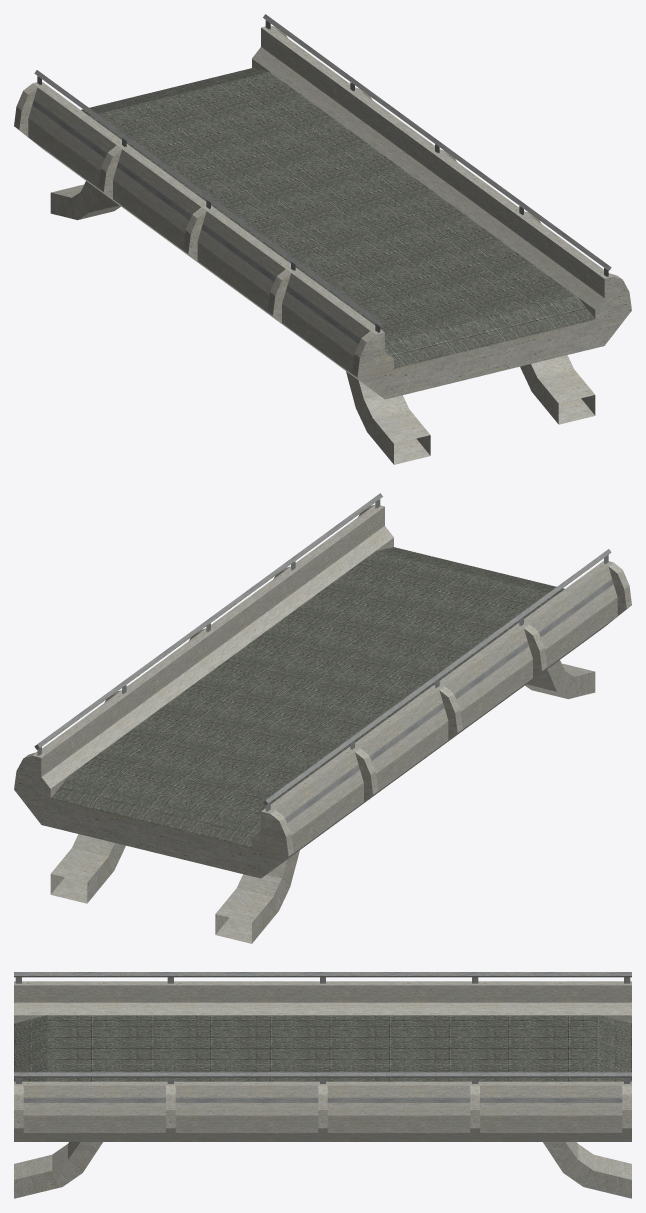
File: thm_corl_imprv_bridge_sm_s02_l1.fbx
The picture shows the model from 3 angles, top to bottom: view 1: azimuth 30°, elevation 25°; view 2: azimuth 150°, elevation 25°; view 3: azimuth 270°, elevation 25°; orthographic projection. The views are drawn at different scales.
Visible parts, largest first — view 1: mesh_node; view 2: mesh_node; view 3: mesh_node.
Boxes of the visible parts, x1,y1,x2,y2 form: mesh_node: (14,14,631,464); mesh_node: (14,493,631,943); mesh_node: (14,972,631,1198).
Bounding box in the file's own units: 7.5 × 3.84 × 16.25.
